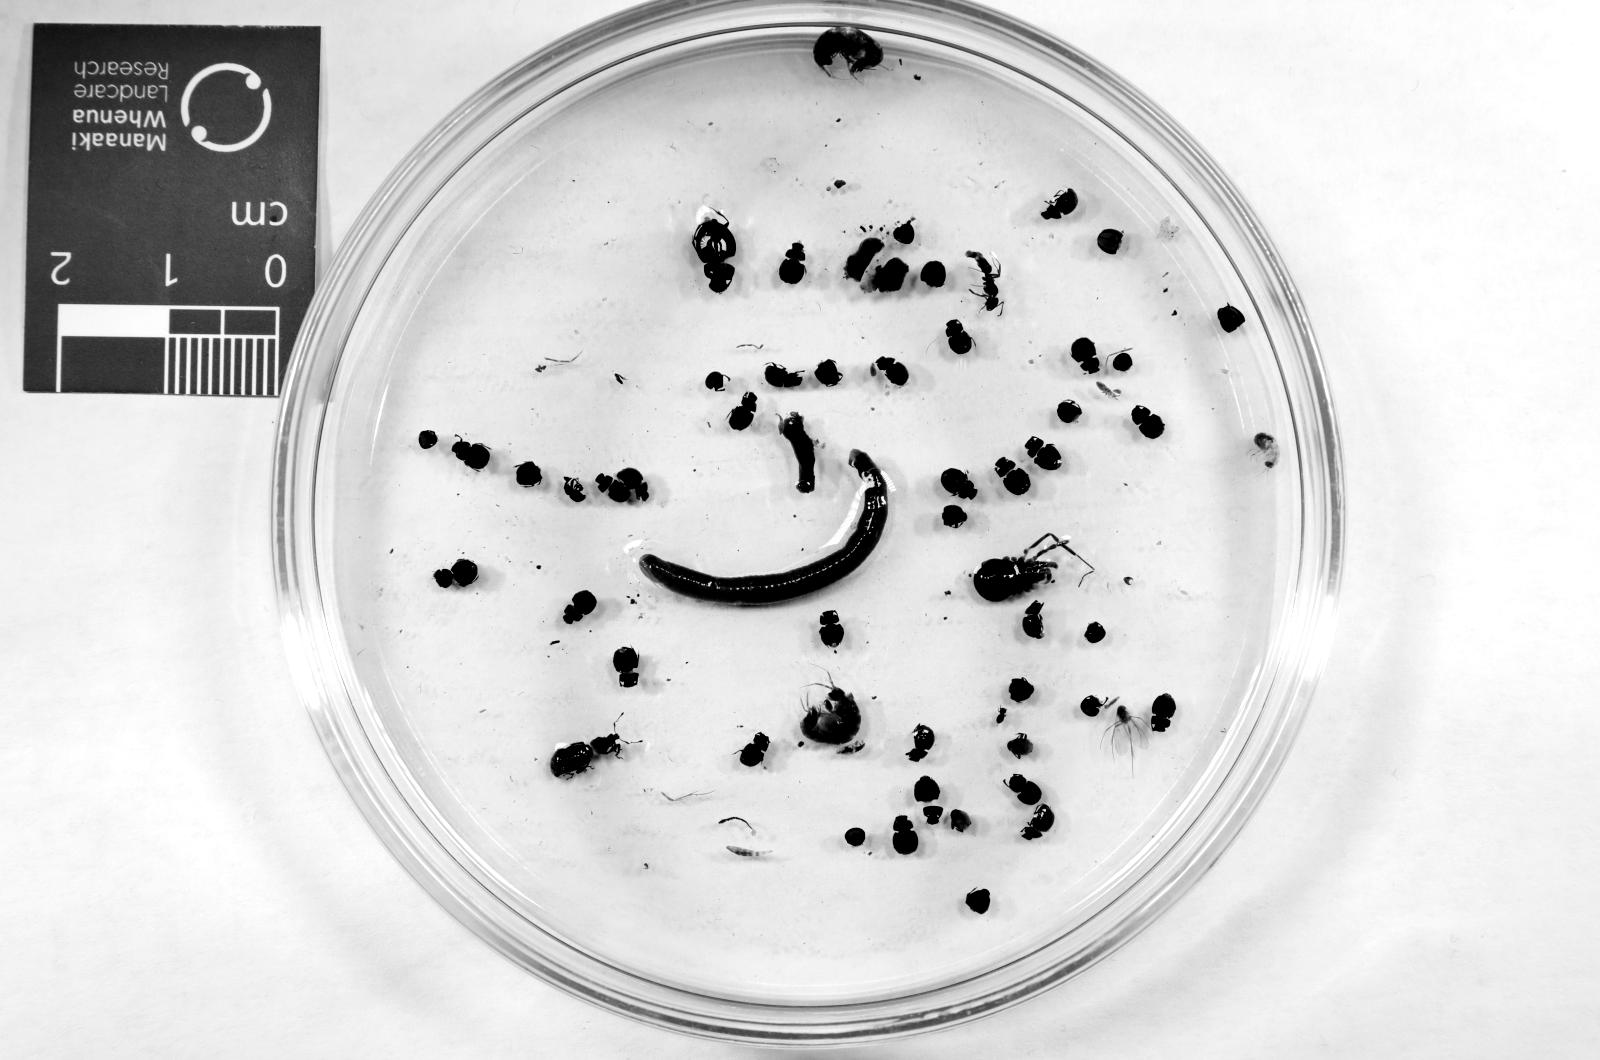amphipoda: (800, 683, 862, 745), (812, 25, 884, 78), (1253, 432, 1278, 469)
annelida: (641, 450, 888, 606)
coleoptera: (550, 733, 622, 779), (694, 220, 734, 292), (994, 457, 1031, 497), (1025, 435, 1062, 472), (1022, 804, 1056, 842), (434, 559, 478, 587), (562, 590, 597, 624), (612, 646, 641, 686), (778, 242, 806, 283), (728, 391, 756, 432), (450, 441, 491, 469), (941, 469, 978, 500), (1041, 189, 1078, 220), (1131, 407, 1166, 438), (1006, 773, 1041, 804), (616, 469, 650, 500), (906, 724, 934, 761), (819, 609, 844, 649), (1072, 338, 1100, 373), (597, 475, 631, 503), (741, 733, 769, 767), (766, 363, 803, 388), (1150, 696, 1175, 733), (894, 817, 919, 854), (1022, 599, 1044, 640), (878, 357, 909, 385), (947, 320, 972, 354), (562, 475, 584, 503)
collembola: (1097, 382, 1119, 398)
formicidae: (966, 252, 1003, 311)
opiliones: (972, 534, 1066, 602)
